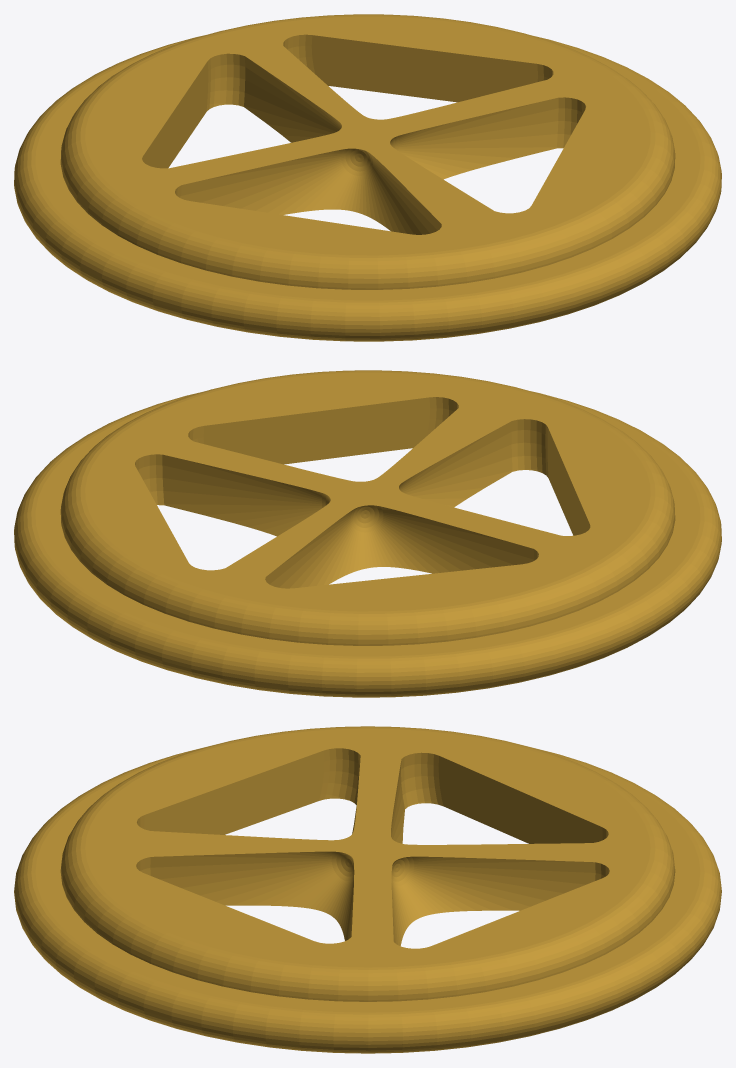
The model's file is Astrolábio.gltf.
The picture shows the model from 3 angles, top to bottom: view 1: azimuth 30°, elevation 25°; view 2: azimuth 150°, elevation 25°; view 3: azimuth 270°, elevation 25°; orthographic projection.
Parts seen in each view (by area): view 1: Merged Objects 1; view 2: Merged Objects 1; view 3: Merged Objects 1.
Boxes of the visible parts, left/top/right/bottom form: Merged Objects 1: left=14, top=14, right=721, bottom=341; Merged Objects 1: left=14, top=370, right=721, bottom=697; Merged Objects 1: left=14, top=726, right=721, bottom=1053.
Bounding box in the file's own units: 0.1152 × 0.0113 × 0.1152.
